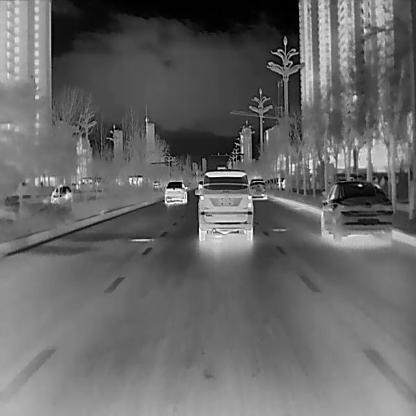car: (320, 180, 393, 240), (193, 169, 254, 240), (163, 180, 187, 202), (48, 184, 72, 202), (249, 178, 267, 200)
